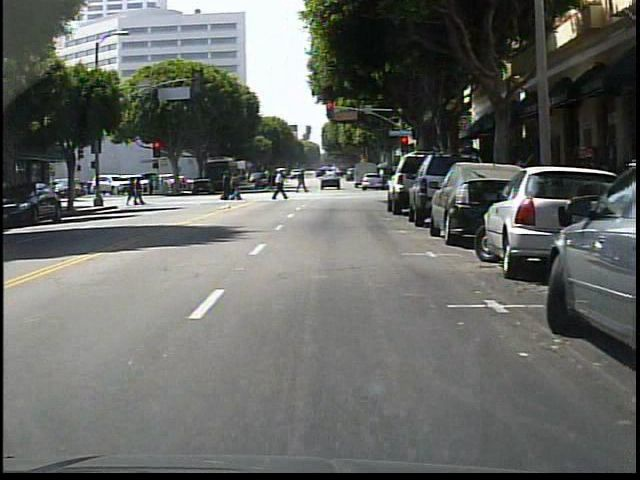person: (268, 167, 289, 205), (292, 168, 310, 197)
